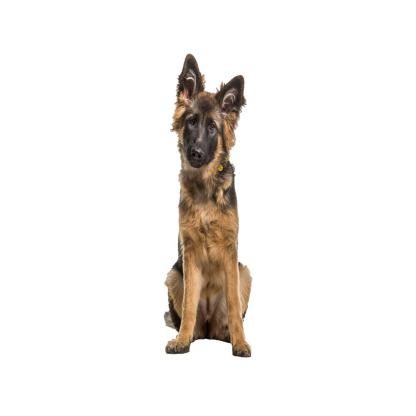dog: (161, 50, 259, 362)
